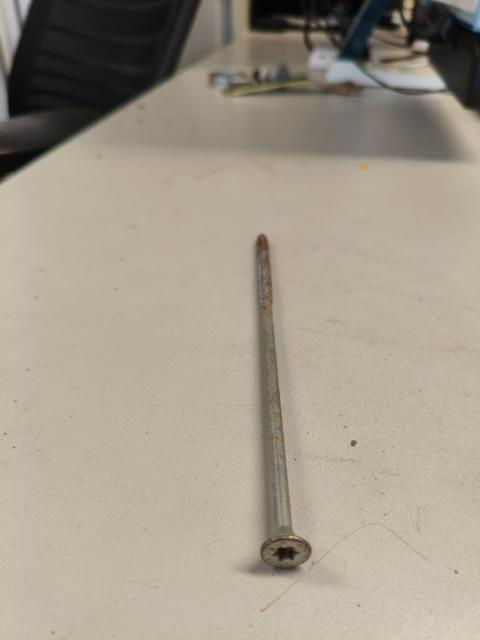Metal: (255, 235, 313, 573)
